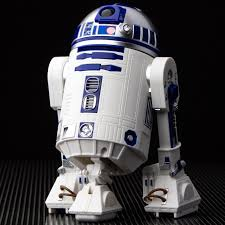r2d2: (45, 4, 201, 220)
